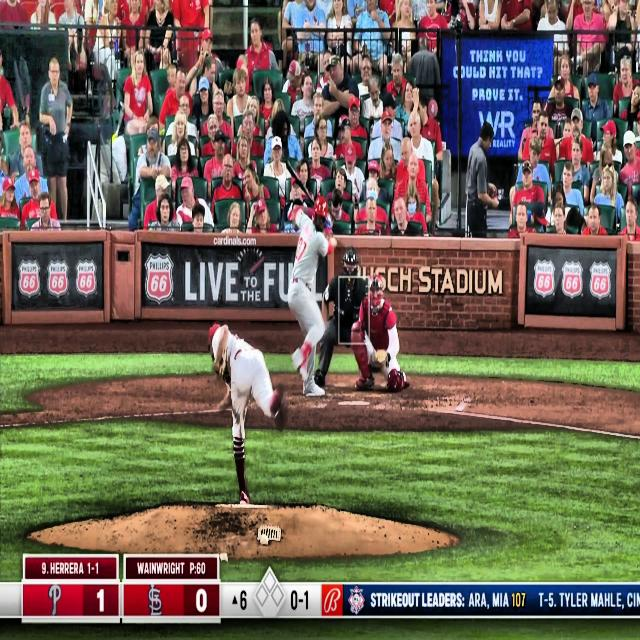baseball: (330, 237, 338, 248)
